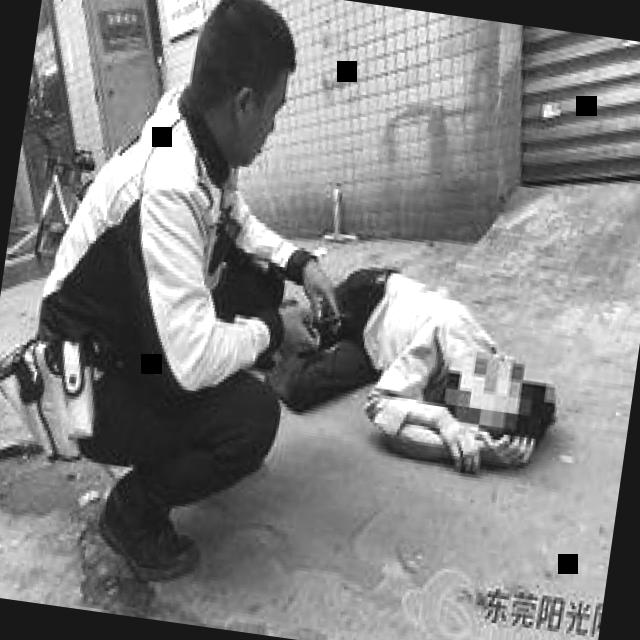Fall-Detected: (252, 226, 593, 493)
